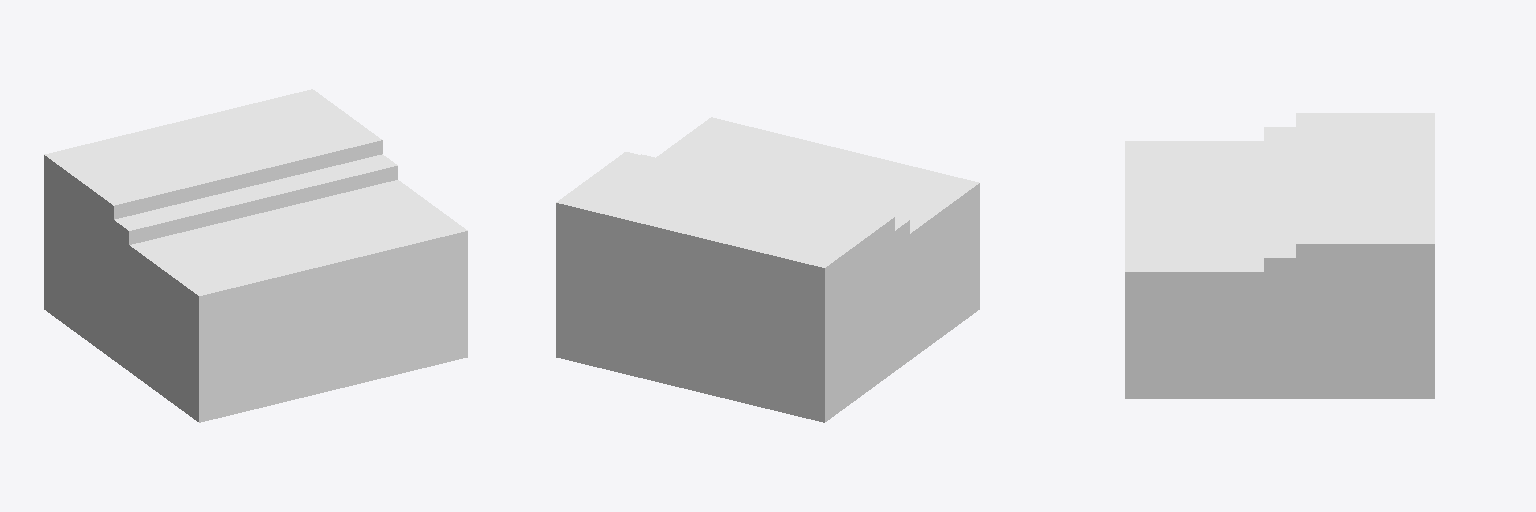
Rendered from Water_2.obj.
3 views of the same model, side by side, from view 1: azimuth 30°, elevation 25°; view 2: azimuth 150°, elevation 25°; view 3: azimuth 270°, elevation 25° (orthographic).
Parts seen in each view (by area): view 1: Water_2; view 2: Water_2; view 3: Water_2.
Boxes of the visible parts, x1,y1,x2,y2 form: Water_2: [44, 89, 467, 422]; Water_2: [556, 117, 979, 422]; Water_2: [1125, 113, 1434, 398].
Size of the model in its own units: 20 by 11 by 20.